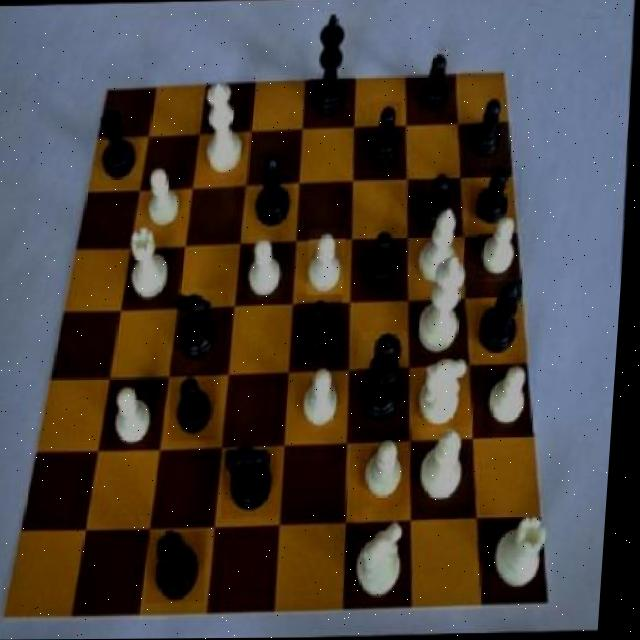bishop: (478, 282, 530, 359), (254, 149, 294, 228)
black-bishop: (307, 12, 359, 129)
black-king: (228, 446, 291, 519), (177, 289, 231, 374)
black-knight: (174, 366, 229, 440), (466, 102, 526, 169), (359, 225, 411, 302), (470, 168, 526, 235), (410, 56, 463, 122), (300, 293, 348, 365), (368, 102, 405, 171), (423, 174, 457, 230)
black-pawn: (359, 331, 414, 429)
black-queen: (153, 532, 216, 605), (90, 106, 145, 185)
black-rook: (415, 202, 469, 295), (421, 428, 479, 506)
white-bishop: (417, 253, 476, 354)
white-king: (355, 514, 417, 610), (419, 354, 481, 428)
white-knight: (103, 371, 166, 445), (362, 431, 420, 509), (488, 358, 545, 436), (299, 369, 352, 436), (141, 165, 194, 228), (479, 216, 525, 280), (246, 234, 290, 298), (310, 228, 351, 296)
white-pawn: (193, 77, 257, 187)
white-queen: (499, 515, 564, 589), (130, 221, 179, 305)
